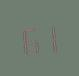one: (39, 20, 58, 54)
six: (19, 21, 38, 56)
